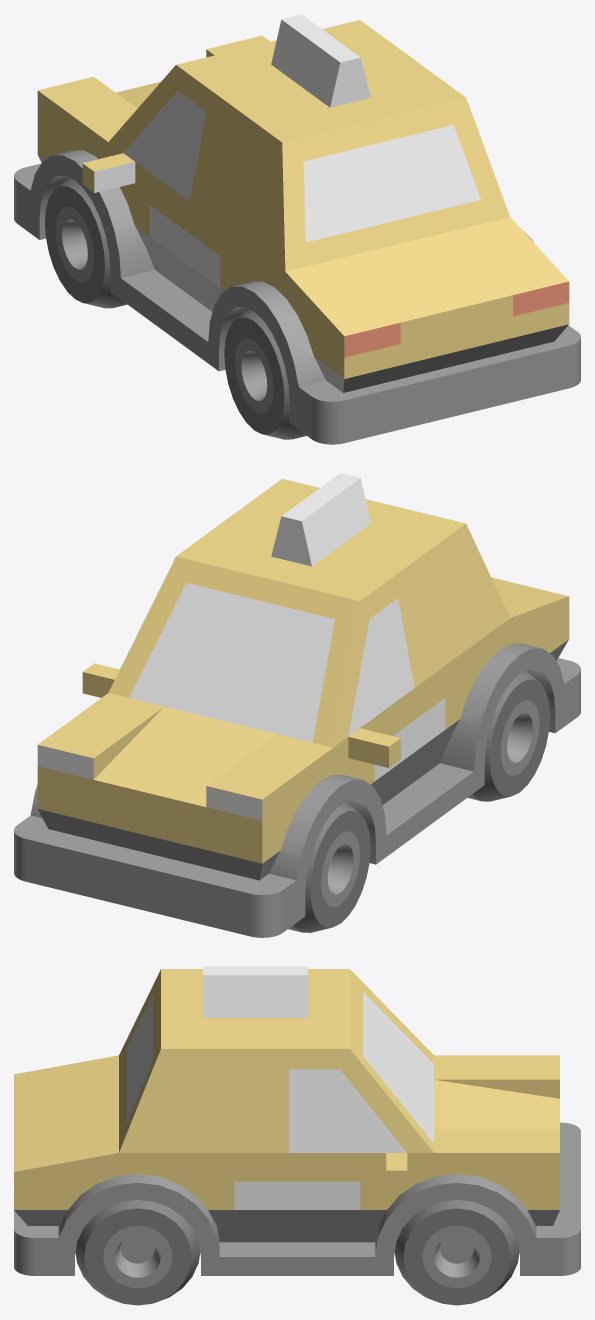
Rendered from taxi.gltf.
The picture shows the model from 3 angles, top to bottom: view 1: azimuth 30°, elevation 25°; view 2: azimuth 150°, elevation 25°; view 3: azimuth 270°, elevation 25°; orthographic projection. The views are drawn at different scales.
Parts seen in each view (by area): view 1: body, wheel_frontLeft, wheel_backLeft; view 2: body, wheel_backLeft, wheel_frontLeft; view 3: body, wheel_backRight, wheel_frontRight.
Boxes of the visible parts, left/top/right/bottom form: body: left=14, top=14, right=580, bottom=444; wheel_frontLeft: left=45, top=177, right=127, bottom=308; wheel_backLeft: left=224, top=309, right=306, bottom=439; body: left=14, top=473, right=580, bottom=937; wheel_backLeft: left=467, top=671, right=549, bottom=801; wheel_frontLeft: left=288, top=802, right=370, bottom=932; body: left=14, top=966, right=580, bottom=1275; wheel_backRight: left=75, top=1200, right=200, bottom=1305; wheel_frontRight: left=394, top=1200, right=519, bottom=1305.
Bounding box in the file's own units: 1.5 × 1.5 × 2.7.
